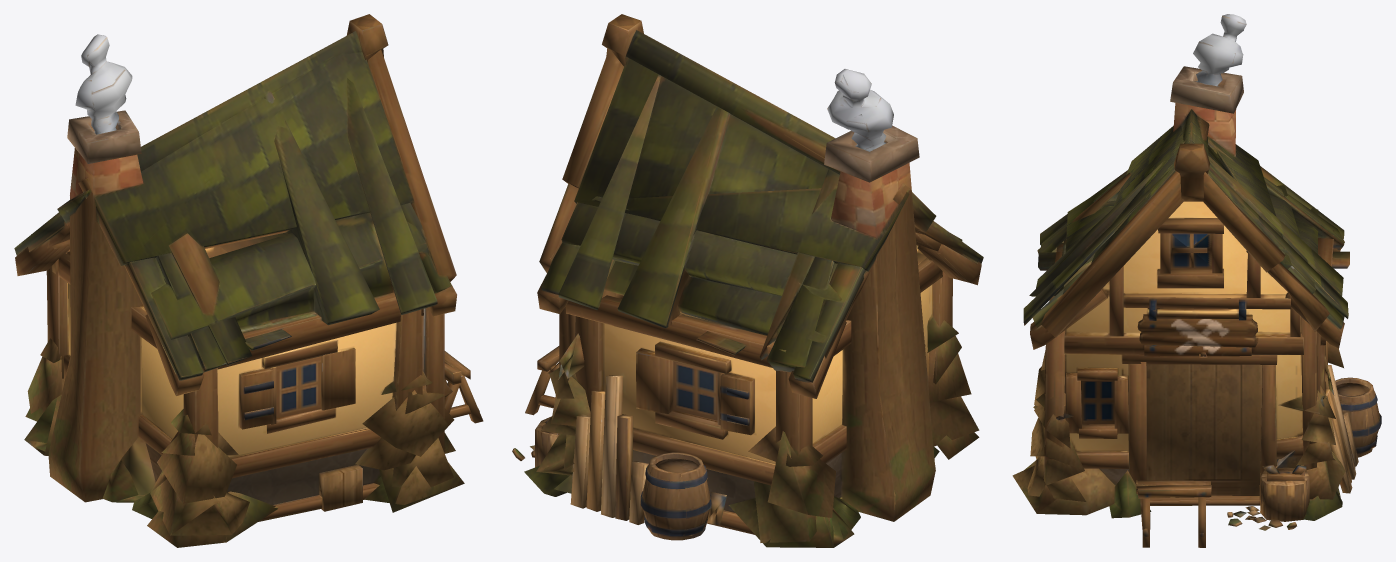
The model's file is cabane_ouvrier.glb.
The picture shows the model from 3 angles, left to right: view 1: azimuth 30°, elevation 25°; view 2: azimuth 150°, elevation 25°; view 3: azimuth 270°, elevation 25°; orthographic projection. The views are drawn at different scales.
Size of the model in its own units: 0.8945 by 0.9521 by 0.8208.
1 material, 1 textured.
